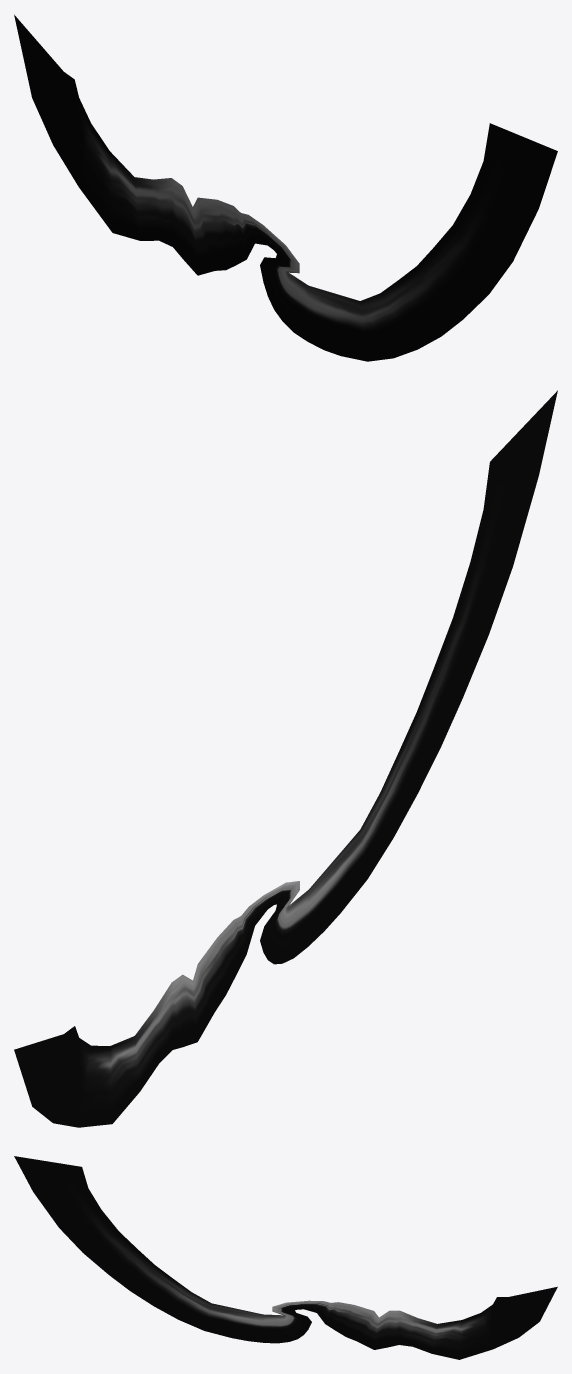
Rendered from xuelangzhiren002.fbx.
3 renders of one model, top to bottom at view 1: azimuth 30°, elevation 25°; view 2: azimuth 150°, elevation 25°; view 3: azimuth 270°, elevation 25°, orthographic. The views are drawn at different scales.
Visible parts, largest first — view 1: xuelangzhiren002; view 2: xuelangzhiren002; view 3: xuelangzhiren002.
Part boxes in pixels (<box>): xuelangzhiren002: <box>14,14,557,361</box>; xuelangzhiren002: <box>14,390,557,1127</box>; xuelangzhiren002: <box>14,1156,557,1359</box>.
Size of the model in its own units: 0.0648 by 190 by 459.
